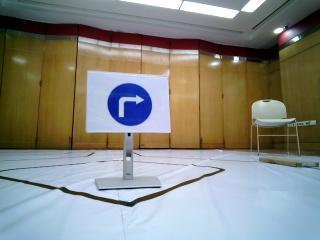right: (89, 72, 170, 132)
